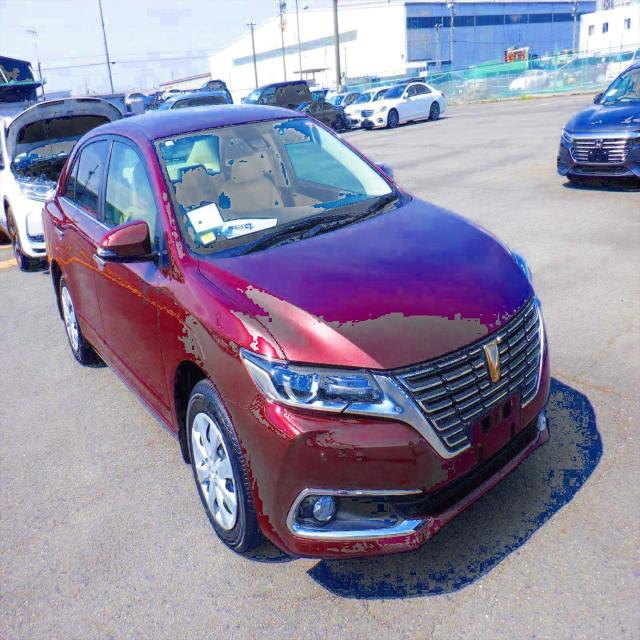maroon: (48, 102, 558, 564)
white: (362, 82, 448, 127)
